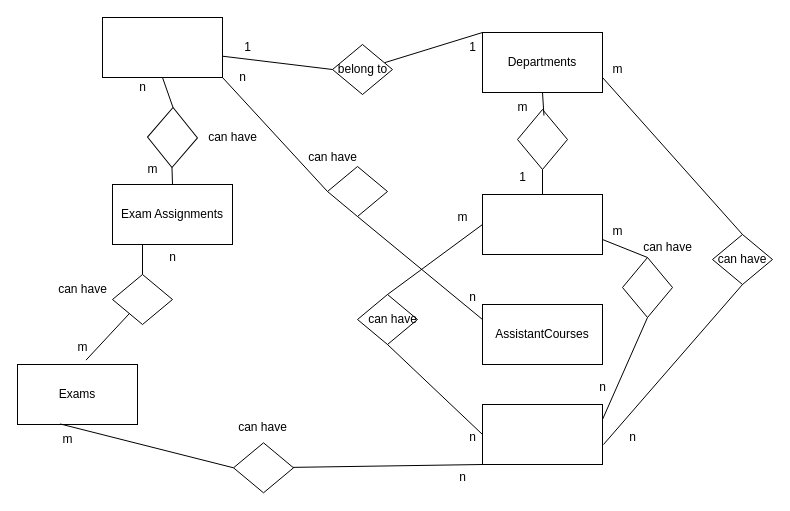
The diagram is 790 pixels wide and 511 high, and some of its shapes have lost their labels. The centre of each missing label's shape, as x and y in pixels:
"can belong to" goes at [542,139].
"Courses" goes at [542,434].
"Employees" goes at [162,47].
"Faculties" goes at [542,224].
